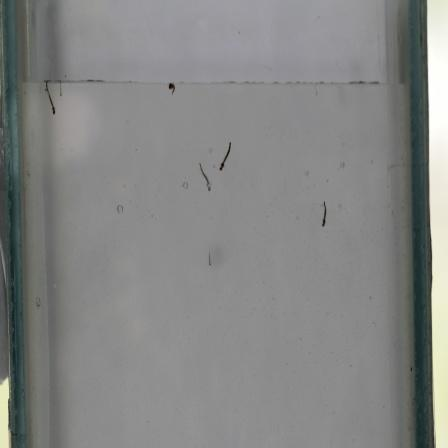Jentik-Nyamuk: (39, 78, 66, 119), (216, 137, 237, 174), (198, 158, 213, 195), (319, 197, 332, 231), (163, 78, 178, 98), (207, 250, 213, 268)
